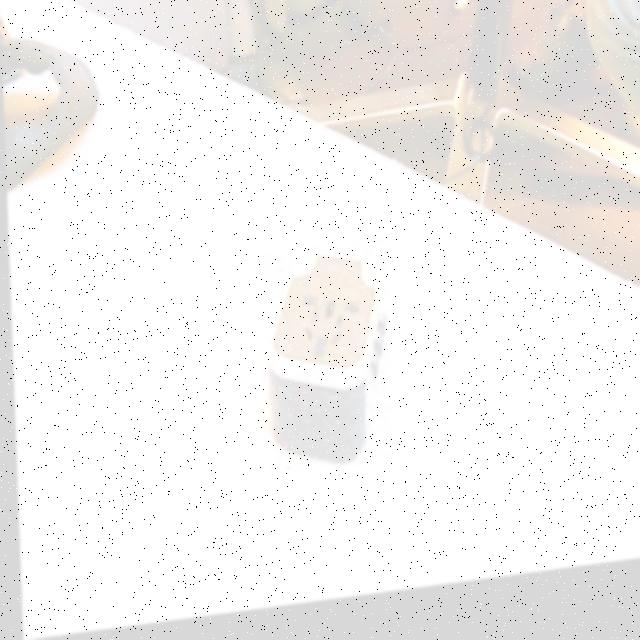adapter: (259, 250, 389, 480)
